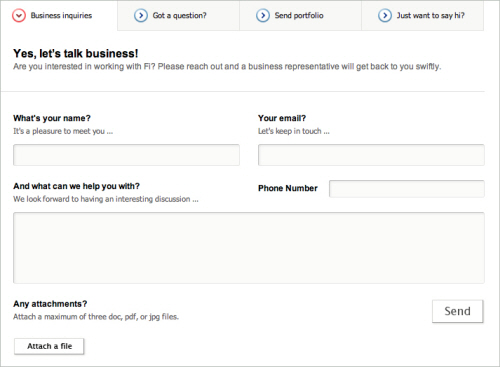_form_: (1, 47, 306, 367), (244, 107, 500, 367), (6, 4, 222, 141)
button: (13, 337, 85, 356), (430, 299, 484, 323)
field: (12, 211, 485, 286), (13, 142, 241, 167), (257, 143, 485, 167), (327, 179, 485, 200)
field_with_label: (10, 182, 487, 289), (11, 112, 242, 169), (255, 114, 486, 170), (256, 177, 488, 202)
